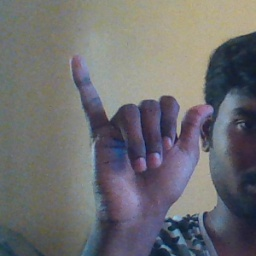J: (70, 51, 215, 227)
